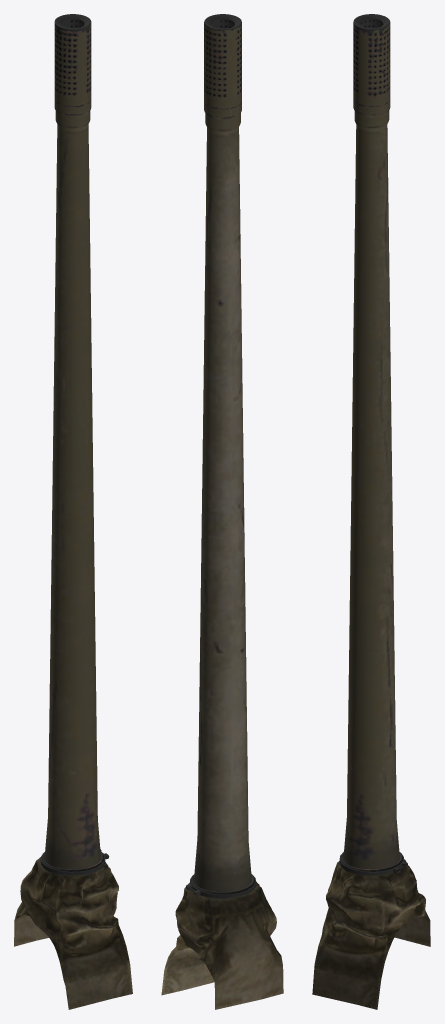
Rendered from Gun_05.glb.
3 views of the same model, side by side, from view 1: azimuth 30°, elevation 25°; view 2: azimuth 210°, elevation 25°; view 3: azimuth 330°, elevation 25° (orthographic). The views are drawn at different scales.
Parts seen in each view (by area): view 1: set_0_group_0; view 2: set_0_group_0; view 3: set_0_group_0.
Part boxes in pixels (x1,y1,x2,y2): set_0_group_0: (14, 14, 132, 1009); set_0_group_0: (161, 14, 283, 1009); set_0_group_0: (312, 14, 430, 1009).
Size of the model in its own units: 0.3992 by 4.71 by 0.489.
Materials: 1 (1 with a texture image).
